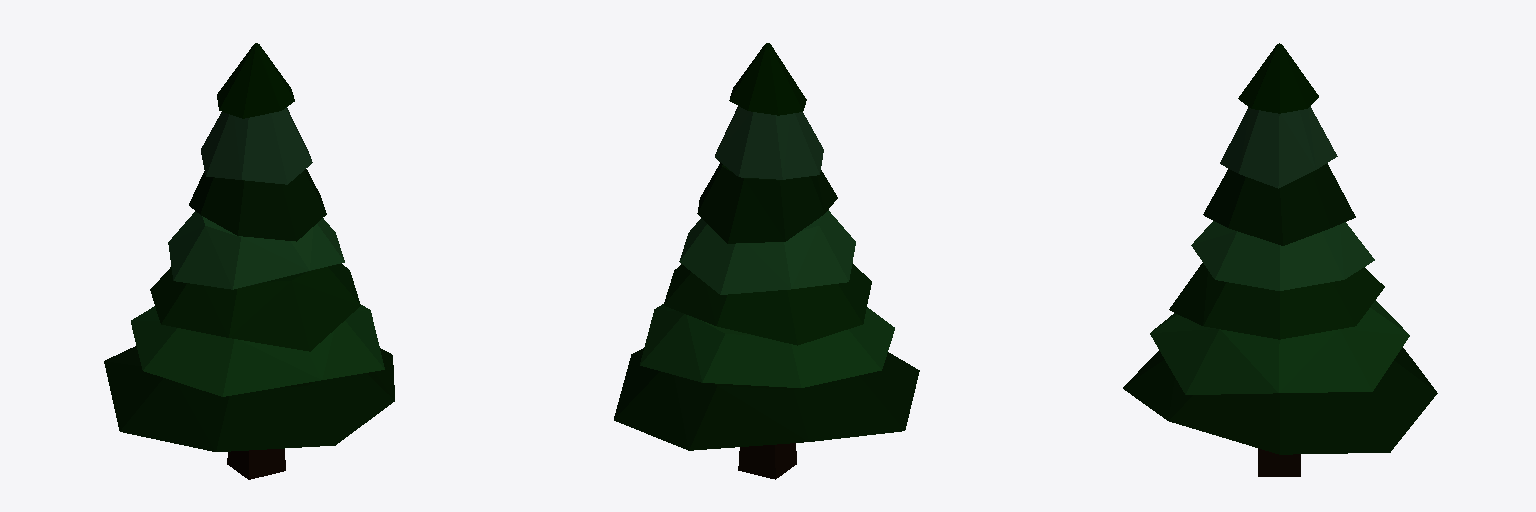
Rendered from Pine_tree.obj.
3 views of the same model, side by side, from view 1: azimuth 30°, elevation 25°; view 2: azimuth 150°, elevation 25°; view 3: azimuth 270°, elevation 25° (orthographic).
Visible parts, largest first — view 1: Cylinder_Cylinder.006, Cylinder.001_Cylinder.007, Cylinder.002_Cylinder.008, Cylinder.003_Cylinder.009, Cylinder.004_Cylinder.010, Cylinder.005_Cylinder.011, Cylinder.006_Cylinder.012, Cube_Cube.001; view 2: Cylinder_Cylinder.006, Cylinder.001_Cylinder.007, Cylinder.003_Cylinder.009, Cylinder.002_Cylinder.008, Cylinder.004_Cylinder.010, Cylinder.005_Cylinder.011, Cylinder.006_Cylinder.012, Cube_Cube.001; view 3: Cylinder_Cylinder.006, Cylinder.001_Cylinder.007, Cylinder.002_Cylinder.008, Cylinder.003_Cylinder.009, Cylinder.004_Cylinder.010, Cylinder.005_Cylinder.011, Cylinder.006_Cylinder.012, Cube_Cube.001.
Part boxes in pixels (bbox=[...]): Cylinder_Cylinder.006: bbox=[104, 346, 394, 451]; Cylinder.001_Cylinder.007: bbox=[131, 305, 384, 396]; Cylinder.002_Cylinder.008: bbox=[150, 263, 360, 351]; Cylinder.003_Cylinder.009: bbox=[168, 211, 344, 289]; Cylinder.004_Cylinder.010: bbox=[189, 169, 326, 241]; Cylinder.005_Cylinder.011: bbox=[201, 107, 312, 184]; Cylinder.006_Cylinder.012: bbox=[217, 43, 294, 118]; Cube_Cube.001: bbox=[227, 449, 285, 479]; Cylinder_Cylinder.006: bbox=[614, 348, 919, 450]; Cylinder.001_Cylinder.007: bbox=[640, 304, 894, 387]; Cylinder.003_Cylinder.009: bbox=[679, 210, 855, 294]; Cylinder.002_Cylinder.008: bbox=[664, 263, 871, 345]; Cylinder.004_Cylinder.010: bbox=[697, 162, 837, 243]; Cylinder.005_Cylinder.011: bbox=[715, 106, 823, 179]; Cylinder.006_Cylinder.012: bbox=[729, 43, 806, 115]; Cube_Cube.001: bbox=[738, 443, 796, 479]; Cylinder_Cylinder.006: bbox=[1123, 347, 1437, 454]; Cylinder.001_Cylinder.007: bbox=[1150, 300, 1409, 394]; Cylinder.002_Cylinder.008: bbox=[1169, 263, 1384, 339]; Cylinder.003_Cylinder.009: bbox=[1191, 221, 1374, 290]; Cylinder.004_Cylinder.010: bbox=[1203, 163, 1355, 245]; Cylinder.005_Cylinder.011: bbox=[1220, 106, 1337, 188]; Cylinder.006_Cylinder.012: bbox=[1238, 43, 1318, 113]; Cube_Cube.001: bbox=[1258, 448, 1300, 476].
Bounding box in the file's own units: 2.01 × 2.97 × 2.01.